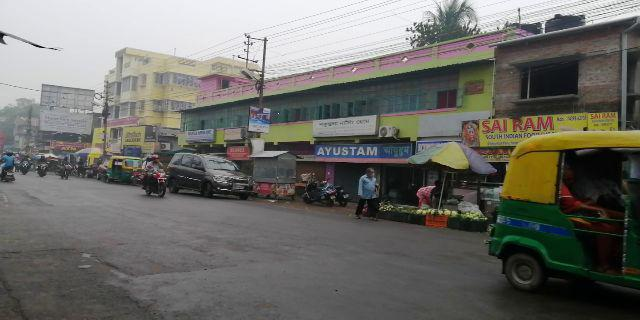Autorickshaw: (490, 130, 640, 289)
Car: (172, 150, 252, 200)
Motorbike: (139, 151, 167, 193)
